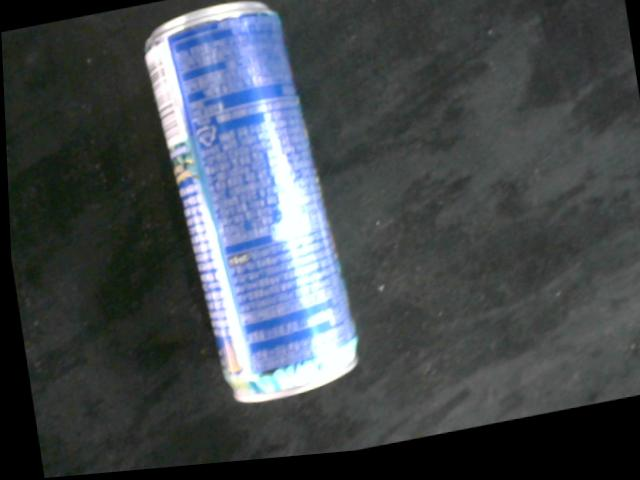can: (142, 5, 361, 409)
